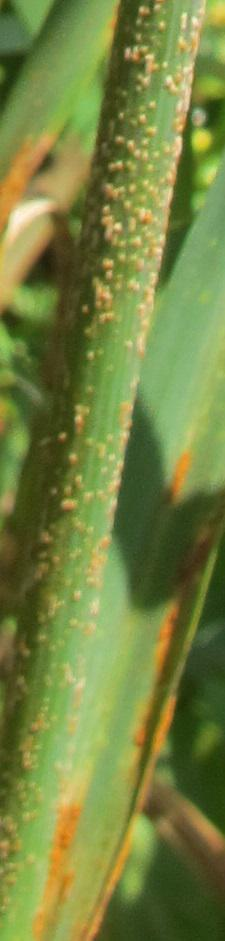Wheat: (41, 6, 195, 493), (2, 486, 125, 902)
